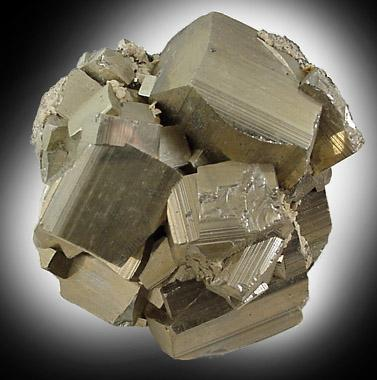pyrite: (30, 11, 365, 362)
